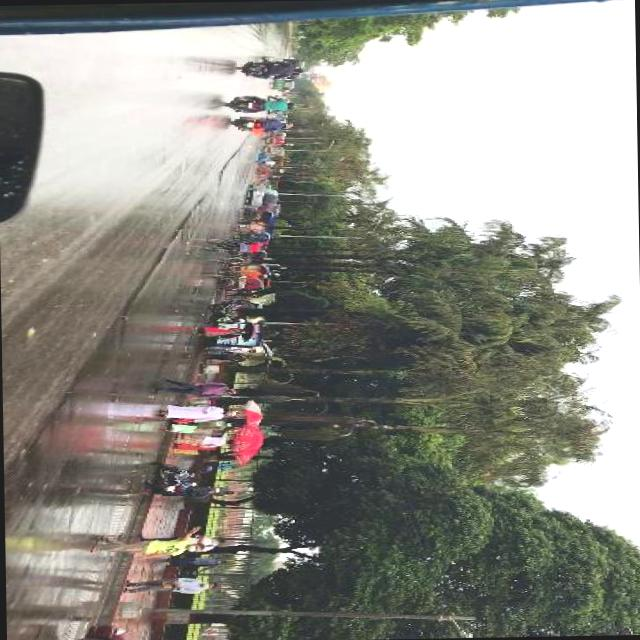motorcycle: (139, 462, 213, 493), (218, 95, 296, 116), (235, 58, 305, 80), (212, 260, 268, 282), (226, 116, 296, 132), (202, 304, 236, 326), (215, 281, 262, 293), (240, 208, 276, 222), (235, 234, 272, 244), (270, 80, 294, 92), (258, 145, 284, 155), (260, 138, 286, 145), (241, 253, 267, 260), (264, 133, 286, 138)
truck: (245, 184, 279, 208)
